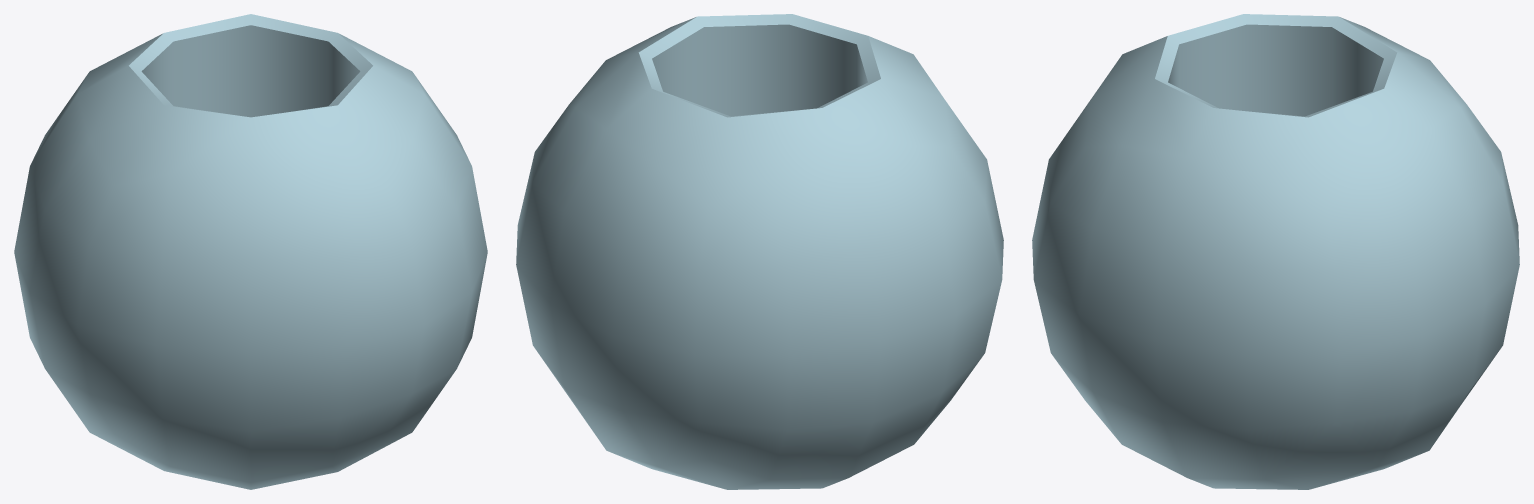
The model's file is Toy_Ball_4.glb.
The picture shows the model from 3 angles, left to right: view 1: azimuth 30°, elevation 25°; view 2: azimuth 150°, elevation 25°; view 3: azimuth 270°, elevation 25°; orthographic projection. The views are drawn at different scales.
Parts seen in each view (by area): view 1: Toy_Ball_4; view 2: Toy_Ball_4; view 3: Toy_Ball_4.
Boxes of the visible parts, <box> form: Toy_Ball_4: <box>14,14,487,489</box>; Toy_Ball_4: <box>516,14,1003,489</box>; Toy_Ball_4: <box>1032,14,1519,489</box>.
Size of the model in its own units: 0.0595 by 0.0512 by 0.0595.
Materials: 1 (1 with a texture image).
